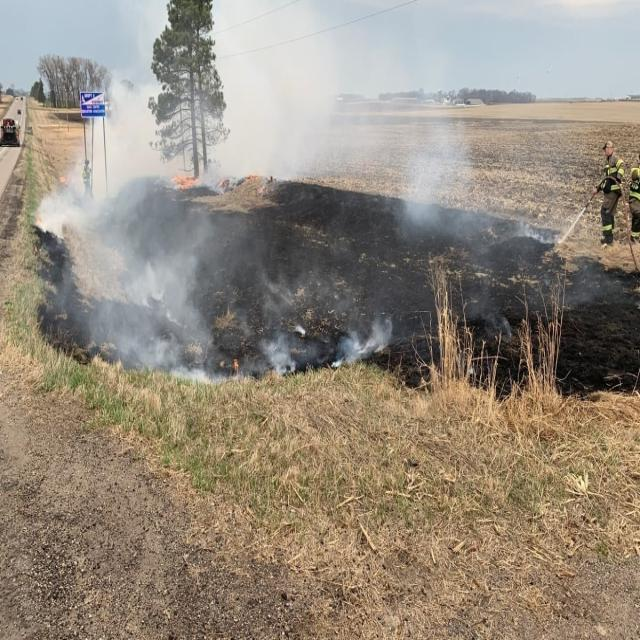Smoke: (43, 54, 257, 378), (393, 150, 502, 252)
